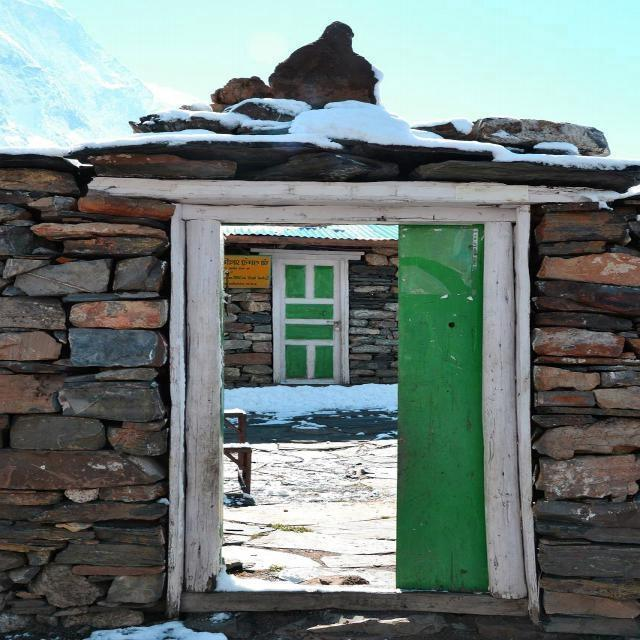door: (271, 253, 347, 385)
